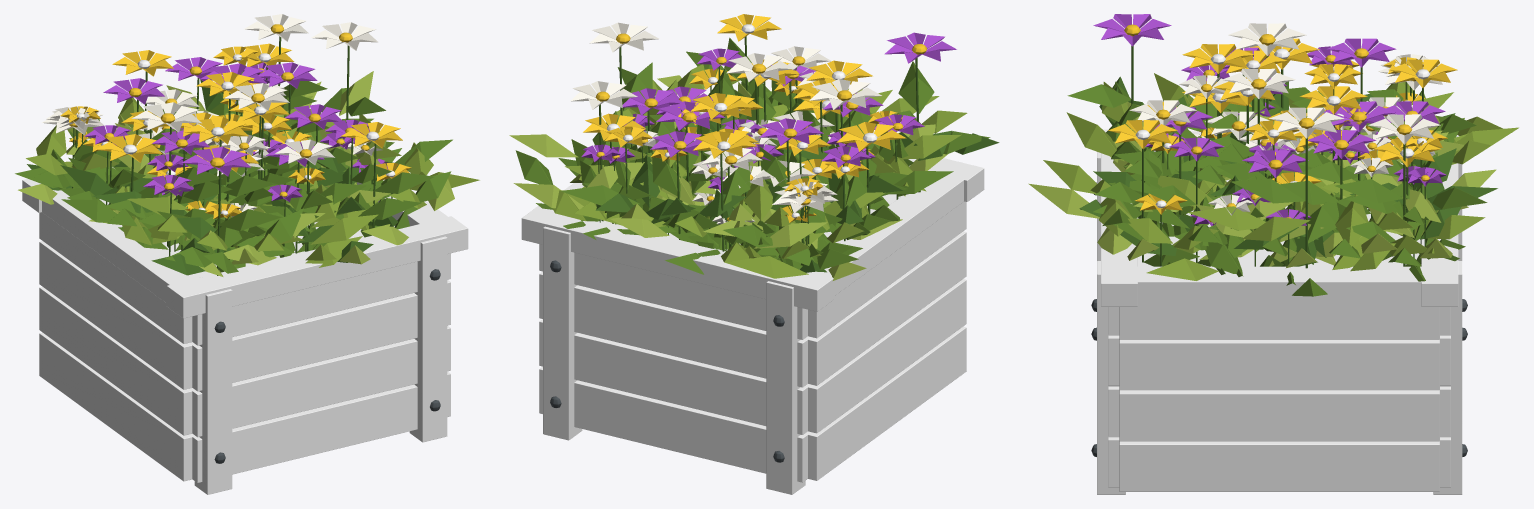
The model's file is 16_square_flower_planter.glb.
3 renders of one model, left to right at view 1: azimuth 30°, elevation 25°; view 2: azimuth 150°, elevation 25°; view 3: azimuth 270°, elevation 25°, orthographic. The views are drawn at different scales.
Visible parts, largest first — view 1: 16_square_flower_planter; view 2: 16_square_flower_planter; view 3: 16_square_flower_planter.
Boxes of the visible parts, box(x1,y1,x2,y2) form: 16_square_flower_planter: box(15, 14, 479, 494); 16_square_flower_planter: box(509, 14, 999, 494); 16_square_flower_planter: box(1028, 14, 1518, 494).
Size of the model in its own units: 1.4 by 1.28 by 1.53.
